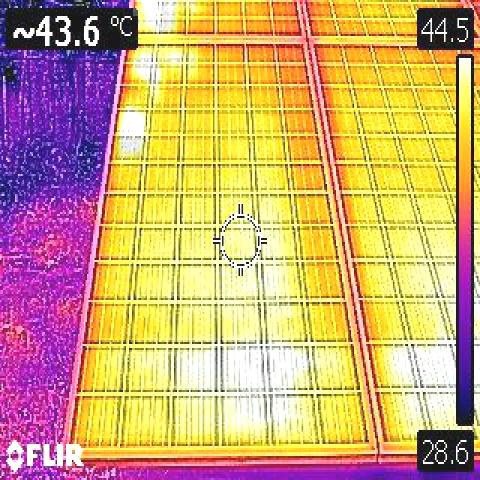fault: (119, 112, 146, 134), (115, 138, 142, 158), (133, 0, 158, 16), (161, 17, 183, 33), (163, 0, 186, 15)
